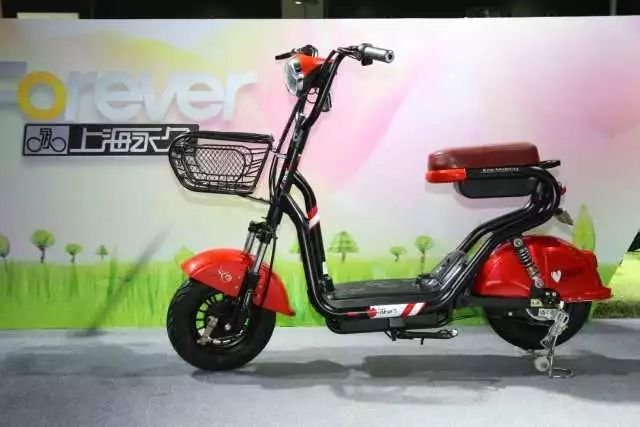电动车: (132, 37, 622, 384)
